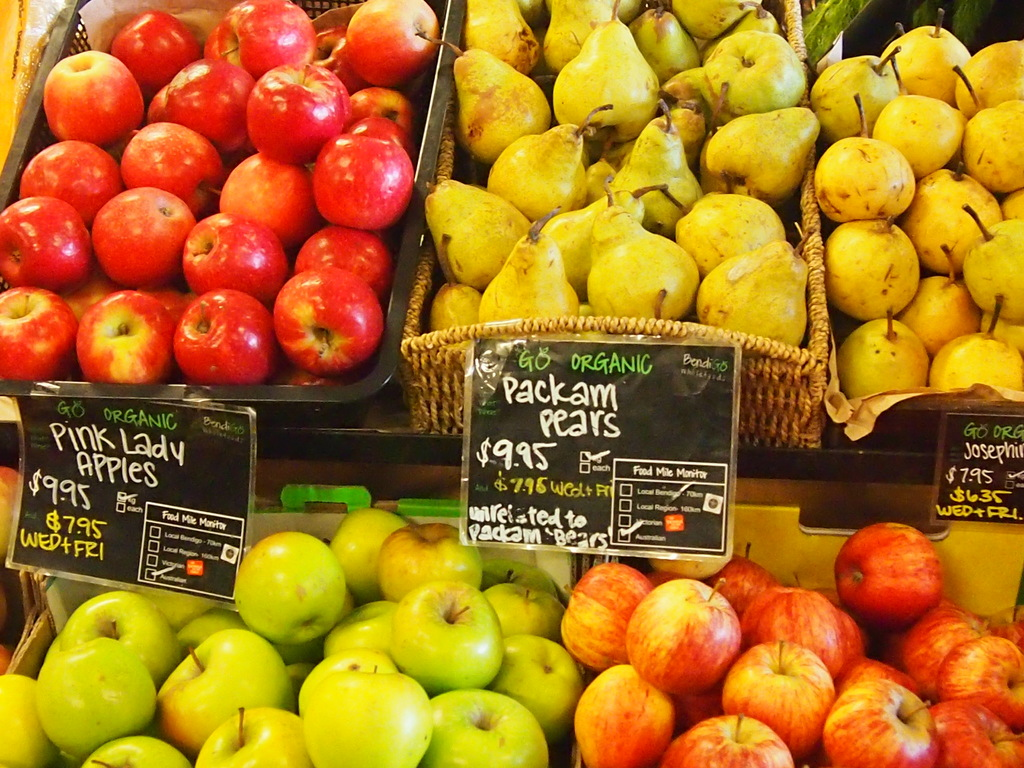Apple: (0, 0, 464, 399), (0, 503, 609, 767), (561, 520, 1023, 767)
